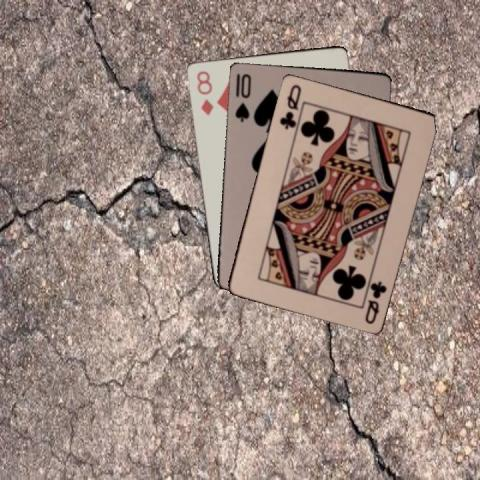10s: (232, 70, 252, 122)
8d: (193, 67, 215, 117)
Qc: (276, 80, 303, 130), (361, 278, 388, 326)
